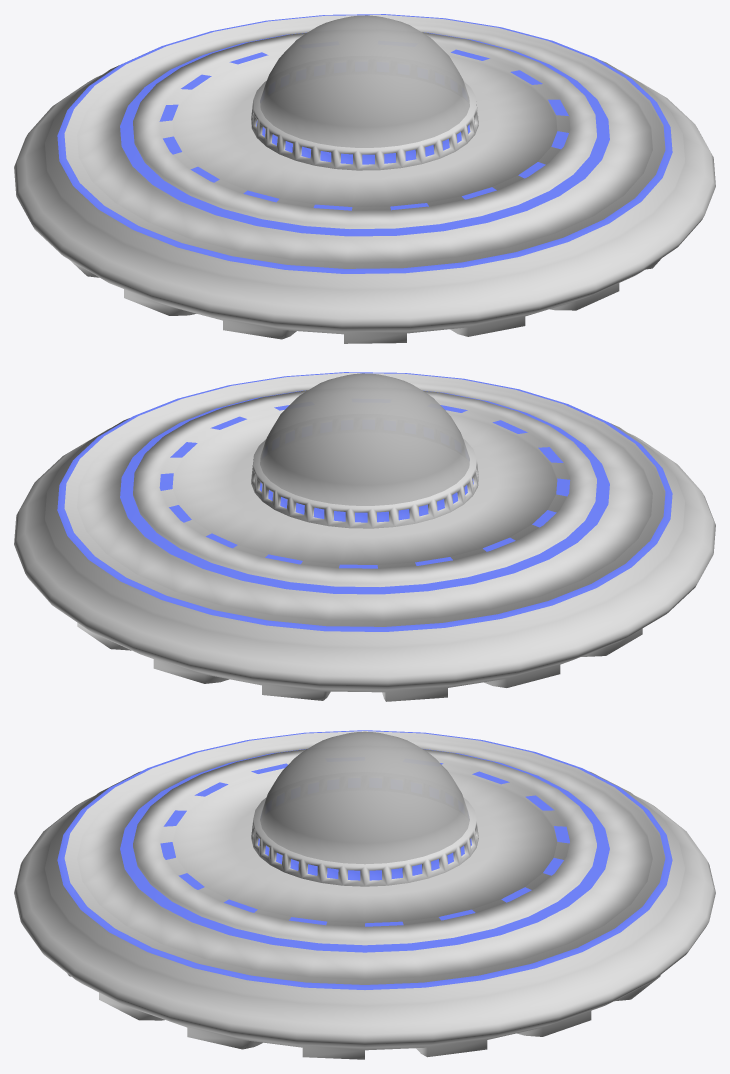
File: UFO.glb
3 renders of one model, top to bottom at view 1: azimuth 30°, elevation 25°; view 2: azimuth 150°, elevation 25°; view 3: azimuth 270°, elevation 25°, orthographic.
Parts seen in each view (by area): view 1: Sphere; view 2: Sphere; view 3: Sphere.
Boxes of the visible parts, box(x1,y1,x2,y2) form: Sphere: box(14, 14, 715, 343); Sphere: box(14, 372, 715, 701); Sphere: box(14, 730, 715, 1059).
Bounding box in the file's own units: 6.56 × 2.47 × 6.56.
